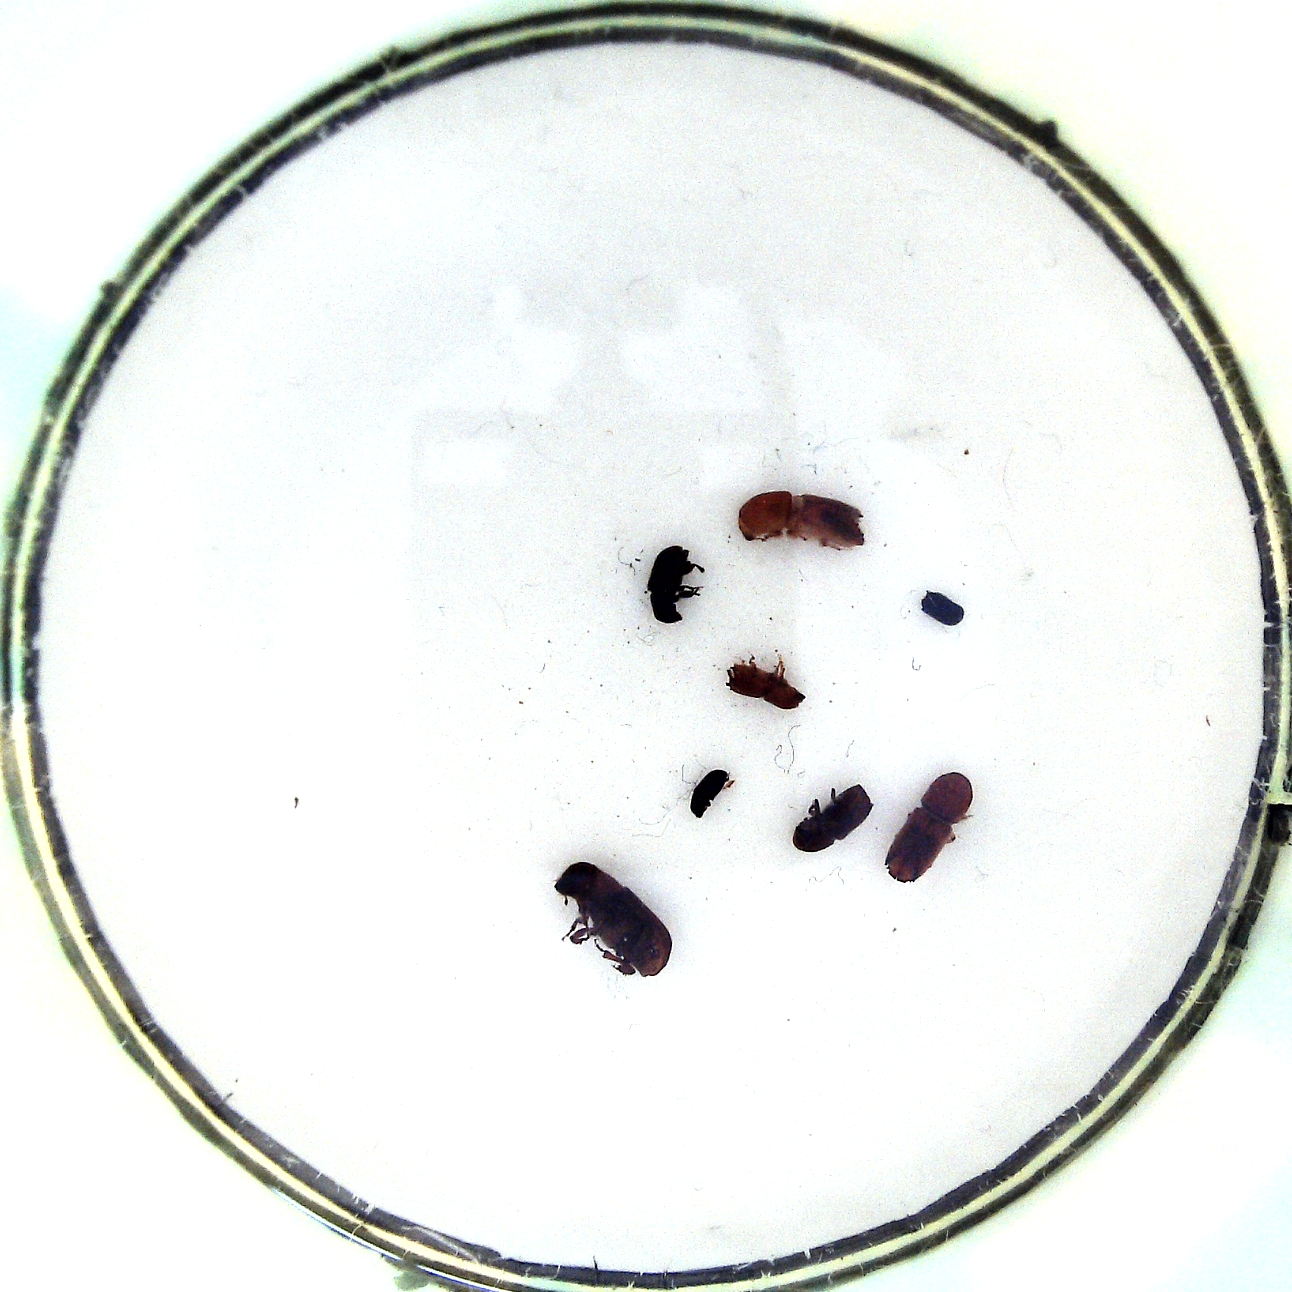Boerner: (878, 768, 978, 889), (735, 487, 871, 557)
Leconte: (553, 850, 676, 986)
Linnaeus: (783, 776, 876, 860)
acuminatus: (721, 653, 808, 719)
armandi: (645, 542, 706, 632)
coleoptera: (685, 765, 742, 822), (917, 589, 968, 629)
